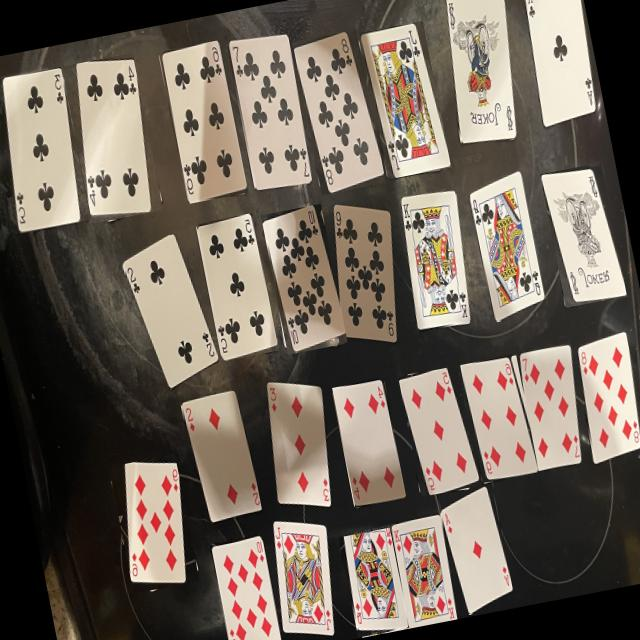10 of clubs: (262, 207, 344, 353)
10 of diamonds: (210, 536, 280, 640)
2 of clubs: (123, 236, 217, 389)
2 of diamonds: (181, 392, 260, 522)
3 of clubs: (1, 68, 78, 233)
3 of diamonds: (265, 383, 330, 508)
4 of clubs: (75, 59, 150, 217)
4 of diamonds: (331, 381, 405, 506)
5 of clubs: (196, 214, 276, 361)
5 of diamonds: (398, 368, 478, 495)
6 of clubs: (161, 42, 245, 203)
6 of diamonds: (460, 358, 537, 480)
7 of clubs: (228, 35, 310, 190)
7 of diamonds: (519, 345, 581, 471)
8 of clubs: (293, 32, 383, 193)
8 of diamonds: (576, 334, 640, 463)
9 of clubs: (333, 205, 396, 344)
9 of diamonds: (124, 462, 185, 584)
Ace of clubs: (524, 0, 595, 127)
Ace of diamonds: (440, 487, 511, 614)
Jack of clubs: (360, 24, 449, 178)
Jack of diamonds: (272, 521, 333, 636)
Joker: (540, 171, 624, 304), (445, 0, 515, 145)
King of clubs: (400, 192, 470, 330)
King of diamonds: (391, 515, 456, 629)
Queen of clubs: (469, 173, 544, 321)
Queen of diamonds: (343, 529, 406, 633)
